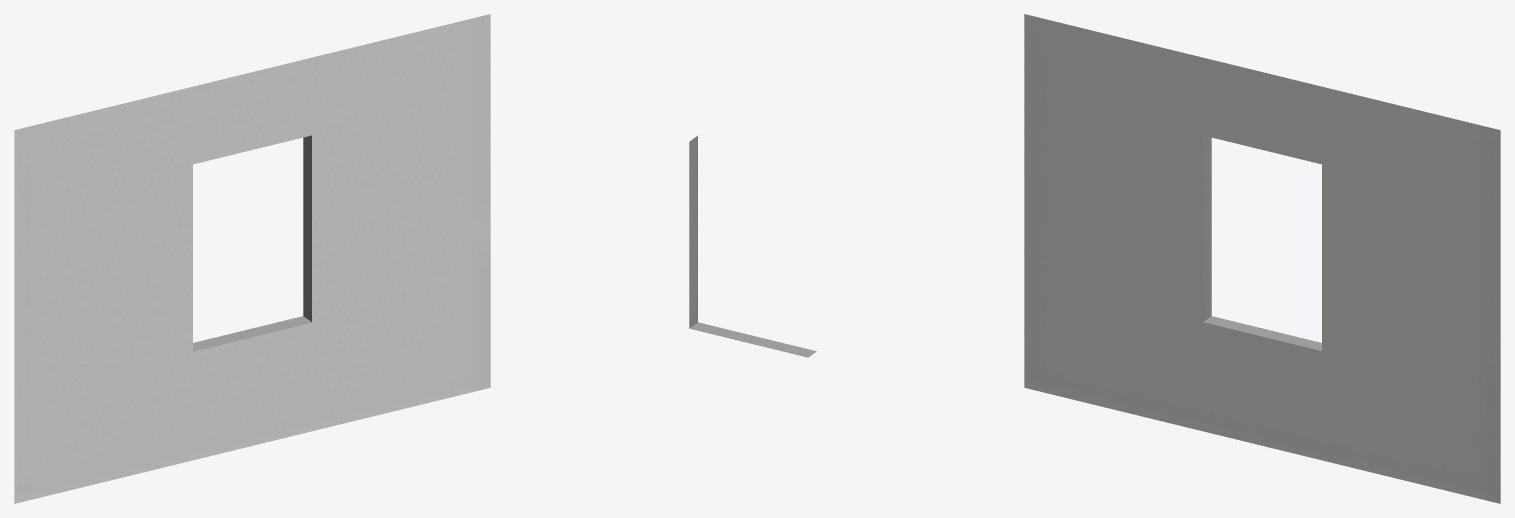
File: Wall4x3Win1x1_5Vert.gltf
3 renders of one model, left to right at view 1: azimuth 30°, elevation 25°; view 2: azimuth 150°, elevation 25°; view 3: azimuth 330°, elevation 25°, orthographic.
Parts seen in each view (by area): view 1: Wall4x3Win1x1_5VertShape; view 2: Wall4x3Win1x1_5VertShape; view 3: Wall4x3Win1x1_5VertShape.
Boxes of the visible parts, x1,y1,x2,y2 form: Wall4x3Win1x1_5VertShape: [14, 14, 490, 503]; Wall4x3Win1x1_5VertShape: [689, 135, 816, 357]; Wall4x3Win1x1_5VertShape: [1024, 14, 1500, 503].
Bounding box in the file's own units: 4 × 3 × 0.125.
Materials: 1 (1 with a texture image).
